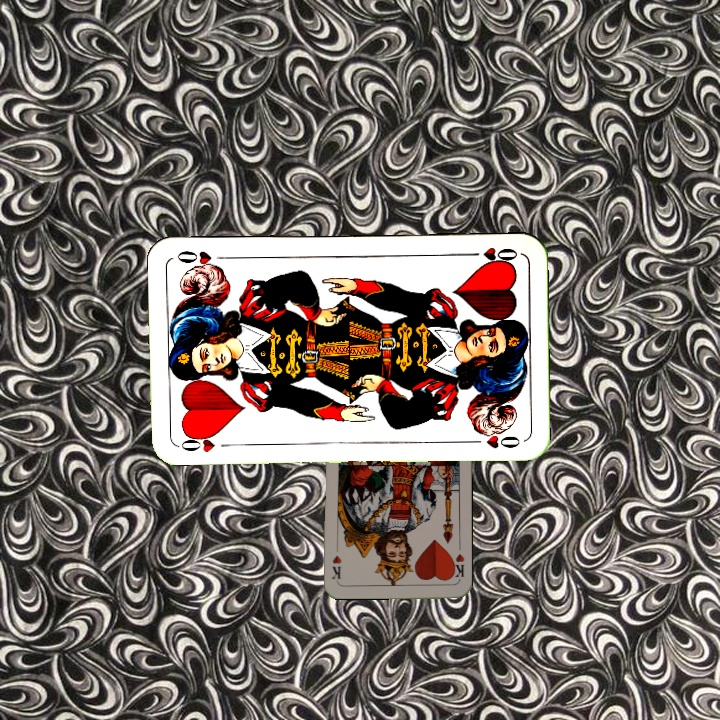HK: (448, 550, 467, 580)
HO: (462, 243, 520, 267), (175, 429, 221, 455)
